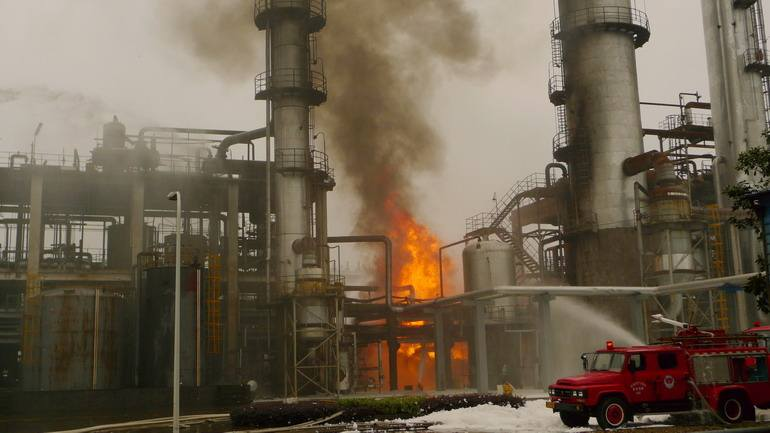fire: (362, 196, 469, 311)
